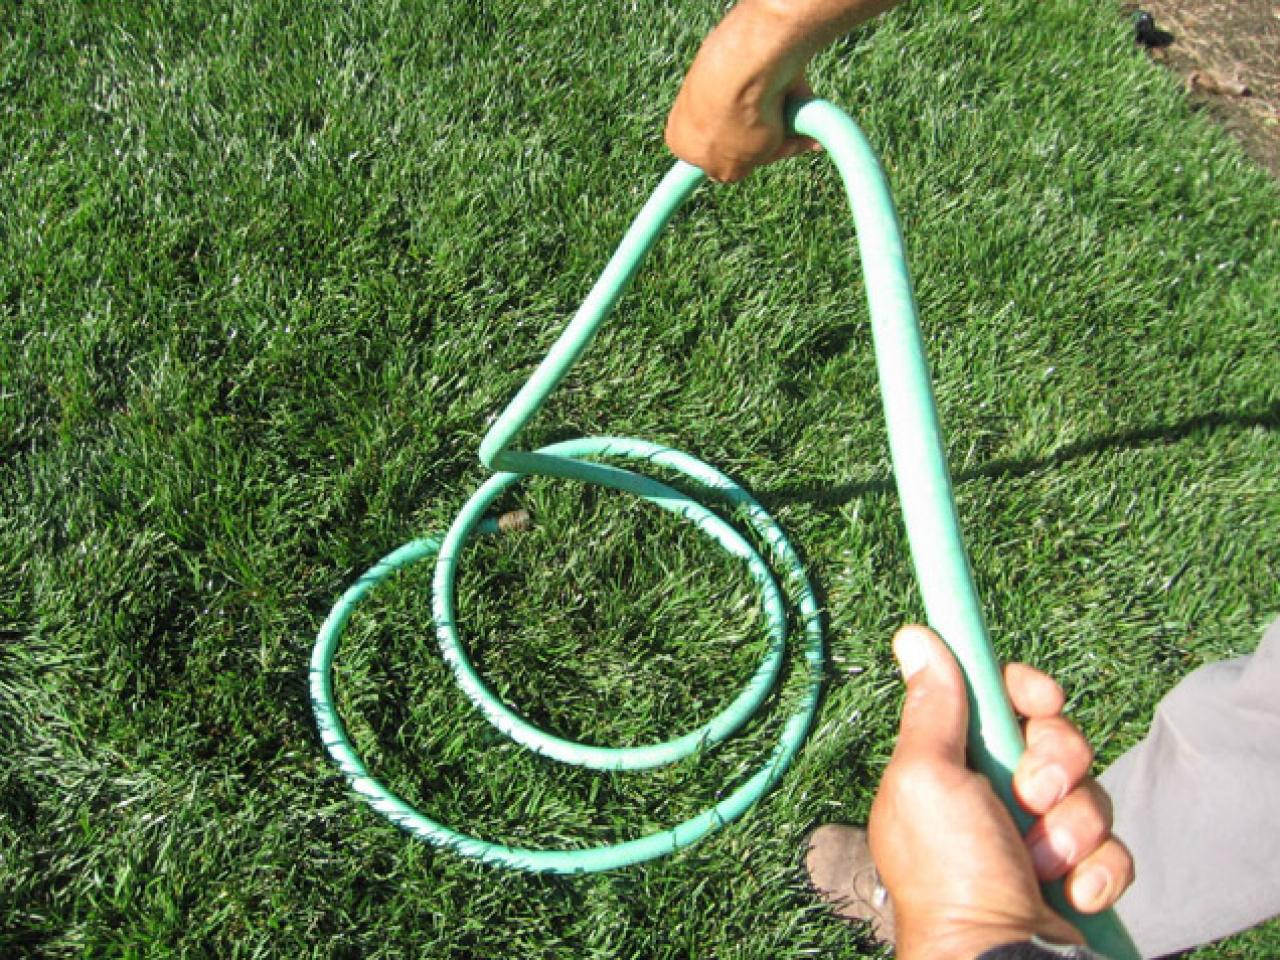Nonrec_Tangler: (203, 113, 1152, 881)
